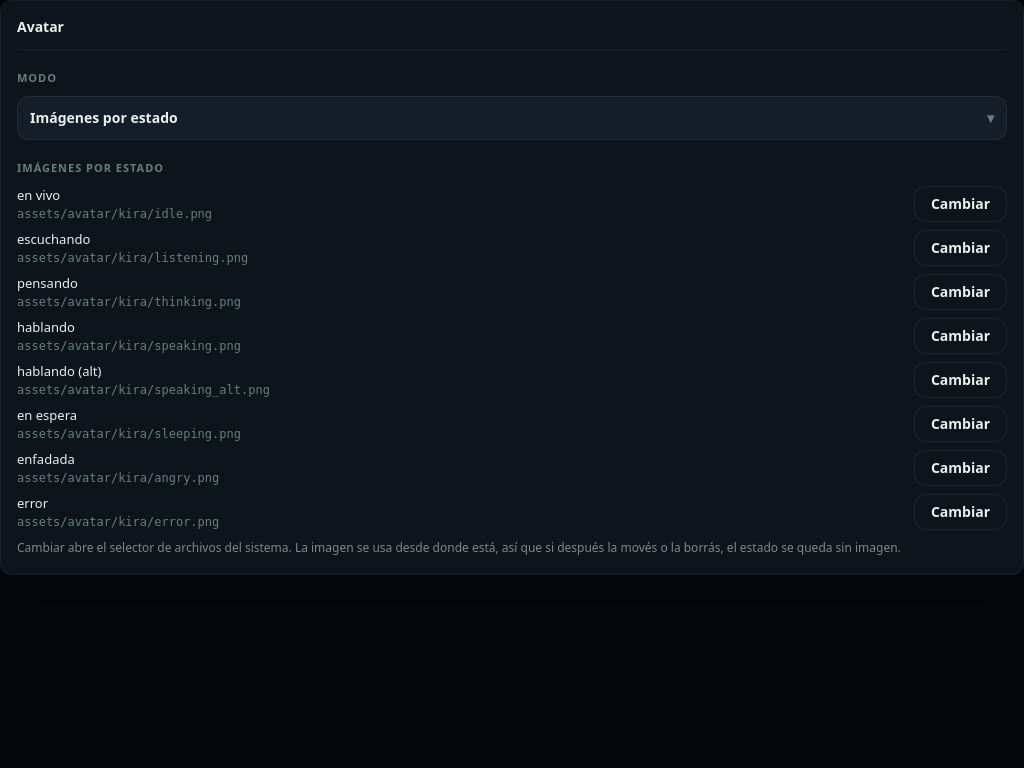
Scenario: AvatarCard per-state image picks a real path through the native dialog › filters the dialog to image types and PUTs the picked path merged into state_images
Expected: the dropdown named "Modo" is shown, [17,96,1007,140]
Click the button "Cambiar" in the row of "assets/avatar/kira/angry.png". click: (960, 468)
box: [914,450,1007,486]
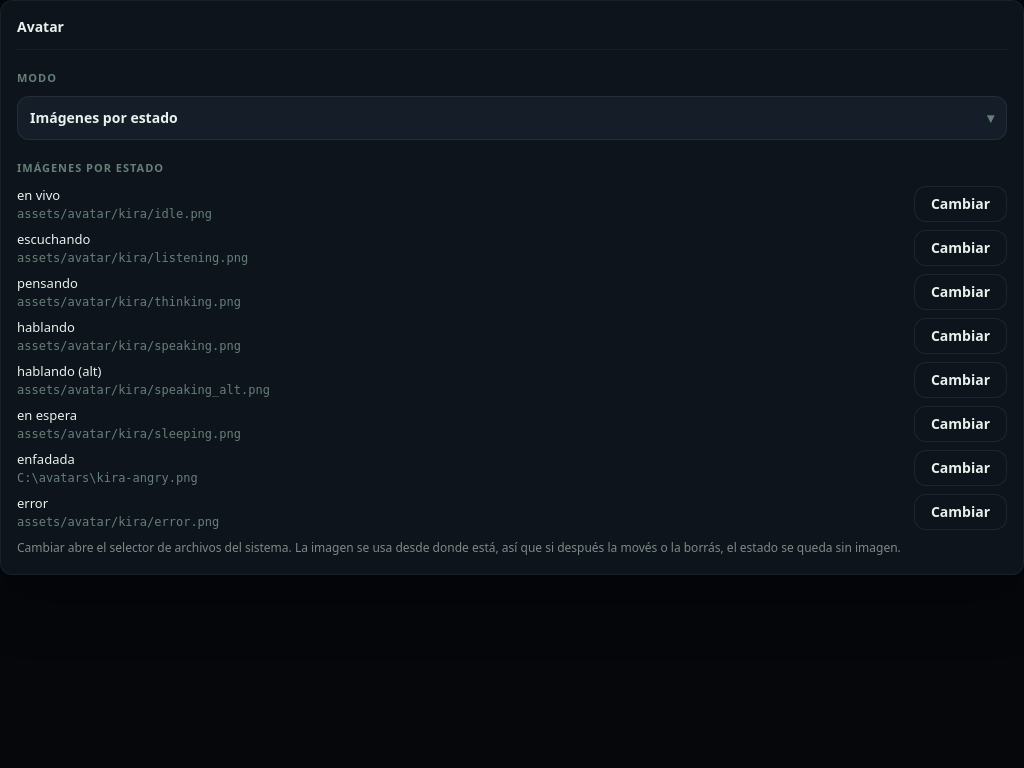
Expected: the text "C:\\avatars\\kira-angry.png" is shown, [17,471,198,485]
